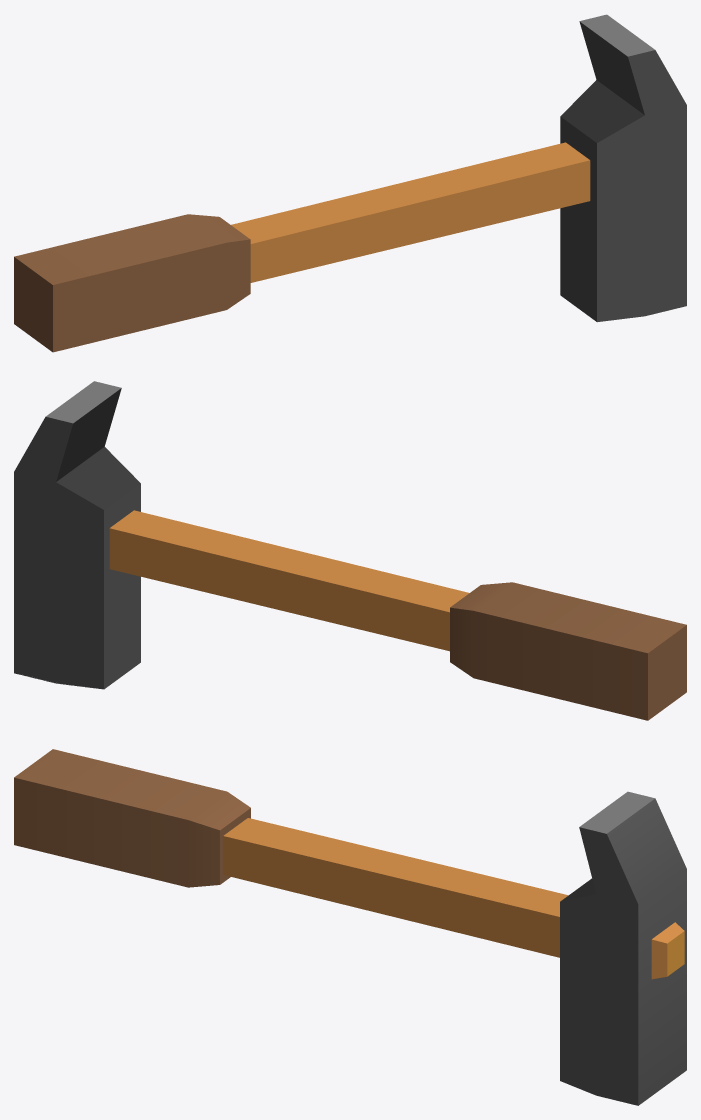
The model's file is Hammer.fbx.
3 renders of one model, top to bottom at view 1: azimuth 30°, elevation 25°; view 2: azimuth 150°, elevation 25°; view 3: azimuth 330°, elevation 25°, orthographic.
Parts seen in each view (by area): view 1: Hammer; view 2: Hammer; view 3: Hammer.
Part boxes in pixels (x1,y1,x2,y2): Hammer: (14,14,686,352); Hammer: (14,381,686,720); Hammer: (14,749,686,1105).
Bounding box in the file's own units: 105 × 41.45 × 13.82.
